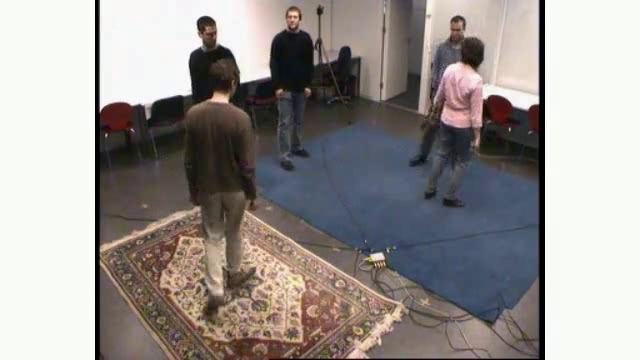normal: (170, 7, 263, 331), (434, 37, 486, 213), (269, 6, 317, 173)
